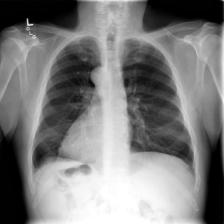normal: (35, 36, 198, 190)
